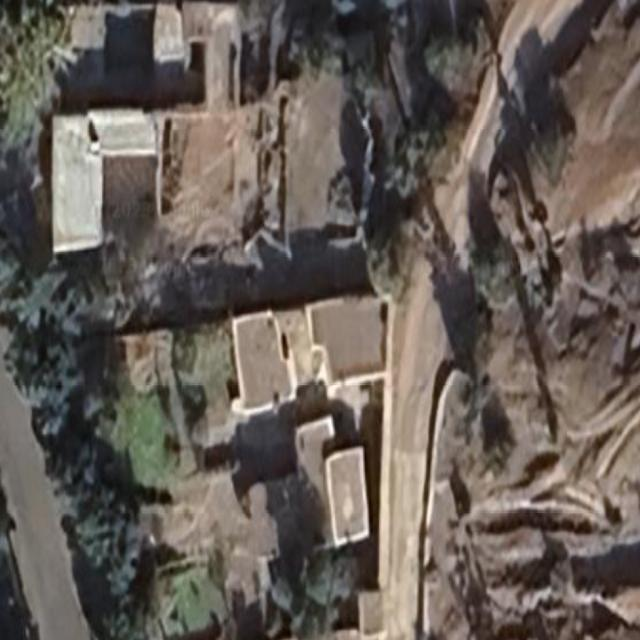Countryside roofs: (299, 418, 378, 573), (303, 284, 414, 392), (212, 298, 303, 428), (34, 102, 111, 251)
